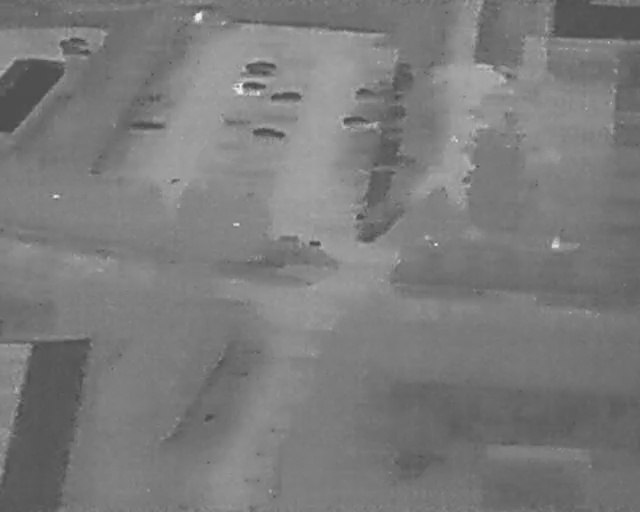Car: (341, 115, 377, 131), (251, 127, 286, 143), (235, 81, 266, 96), (269, 91, 302, 105), (354, 89, 384, 103), (240, 70, 276, 81), (246, 61, 277, 73), (62, 46, 92, 58), (58, 37, 89, 48)
